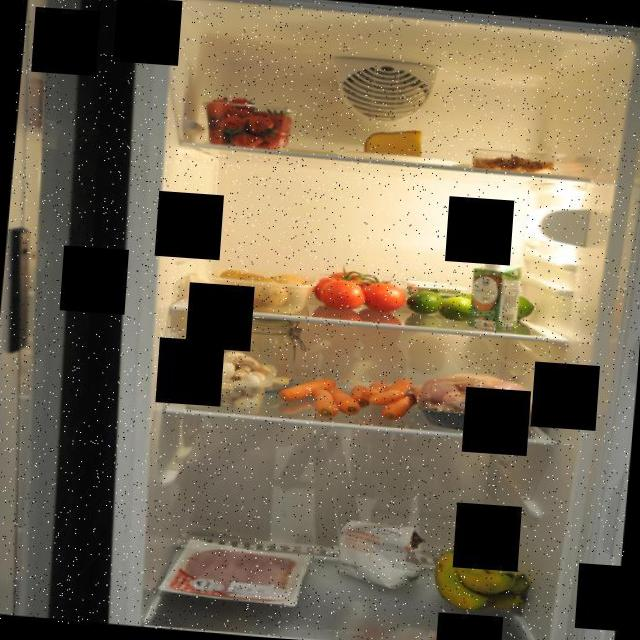Carne cerdo: (170, 540, 298, 607)
Carne pollo: (413, 364, 546, 436)
Champiñones: (171, 348, 288, 420)
Gambas/Langostinos: (470, 152, 560, 176)
Patata: (208, 262, 318, 313)
Plátano: (428, 532, 542, 620)
Queso: (362, 123, 426, 161), (401, 279, 465, 302)
Tomate: (310, 260, 408, 316)
Zanahoria: (278, 368, 420, 424)
flour: (204, 311, 304, 400), (330, 512, 427, 594)
heavy_cream: (466, 255, 522, 333)
strawberries: (195, 90, 298, 153)
